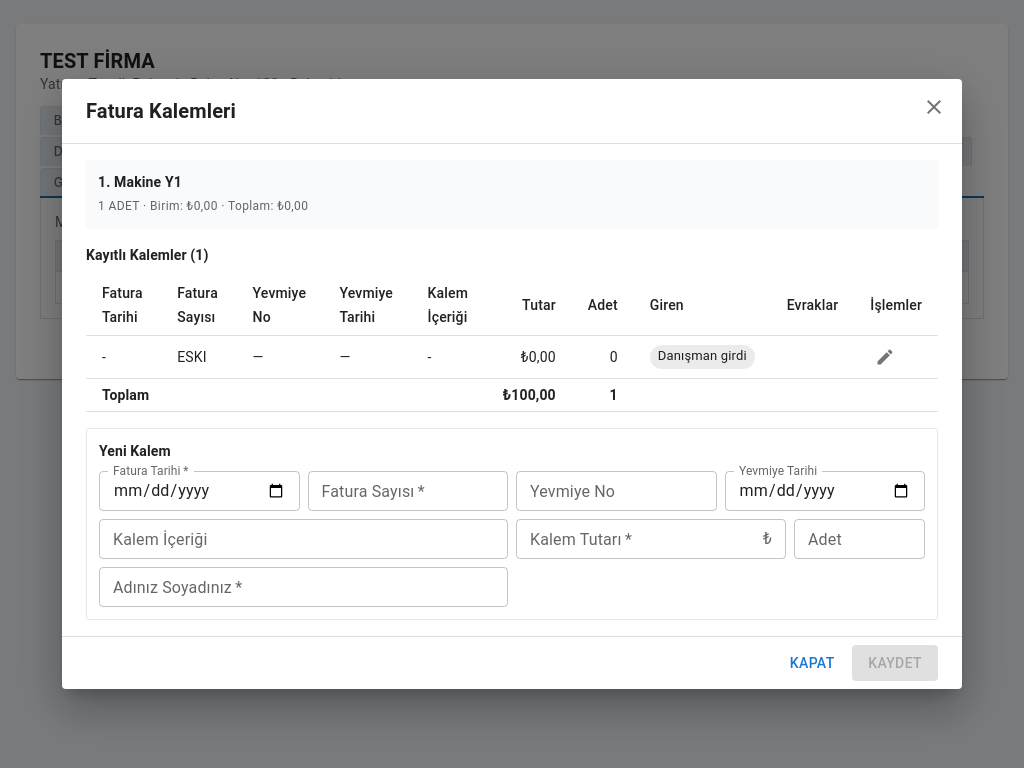
Scenario: eksik eski personel kaydının yalnız açıklaması düzeltilebilir ve vazgeçmek kayıt yapmaz
Earlier steps of the test are not shown.
Click the button named "ESKI düzenle". click: (885, 357)
box: left=870, top=342, right=900, bottom=372
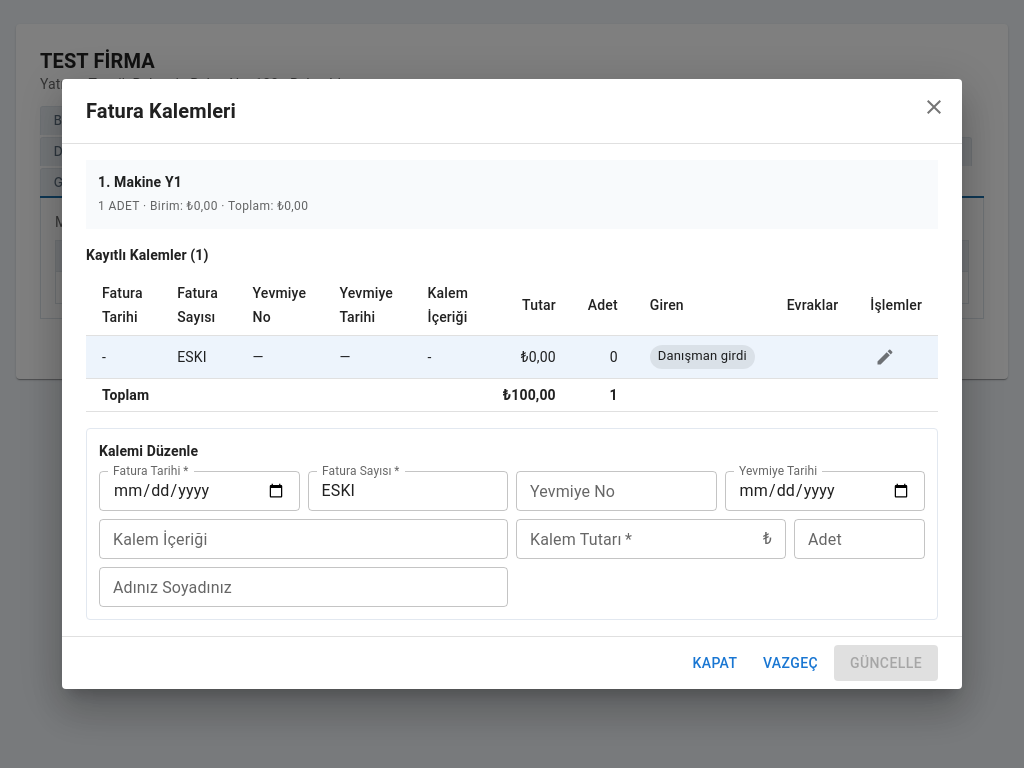
Type "Vazgeçilen içerik" into the field labelled "Kalem İçeriği". click: (304, 539)
box: left=99, top=519, right=508, bottom=559
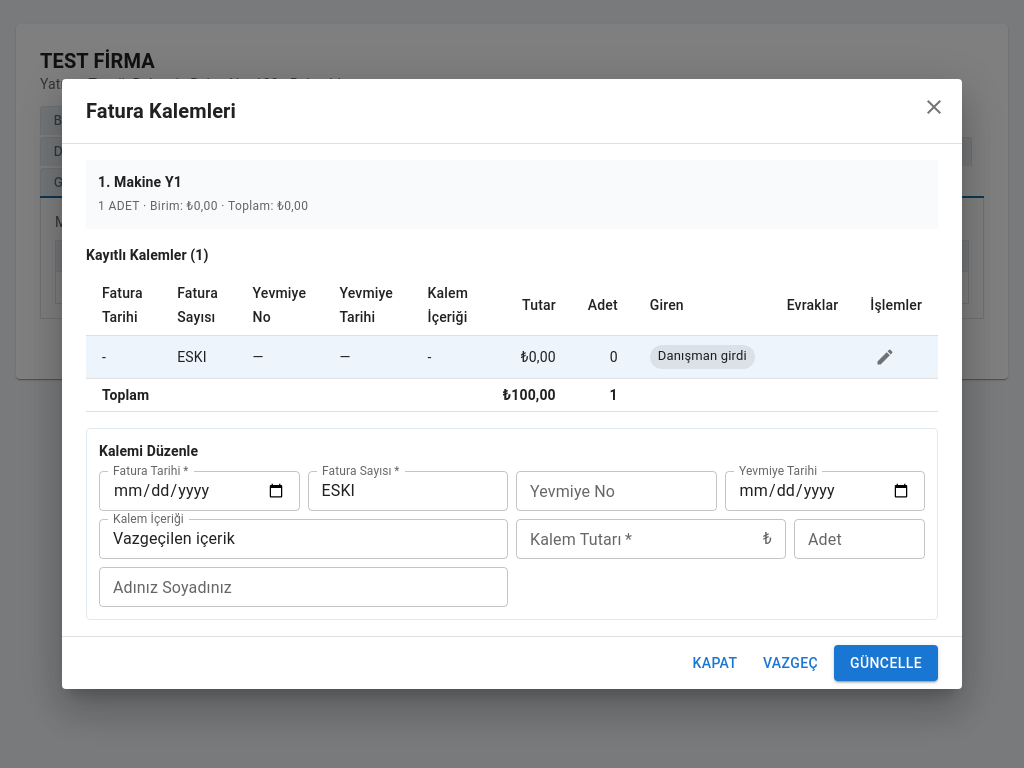
Click the button "Vazgeç". click: (790, 663)
box: left=755, top=645, right=826, bottom=681
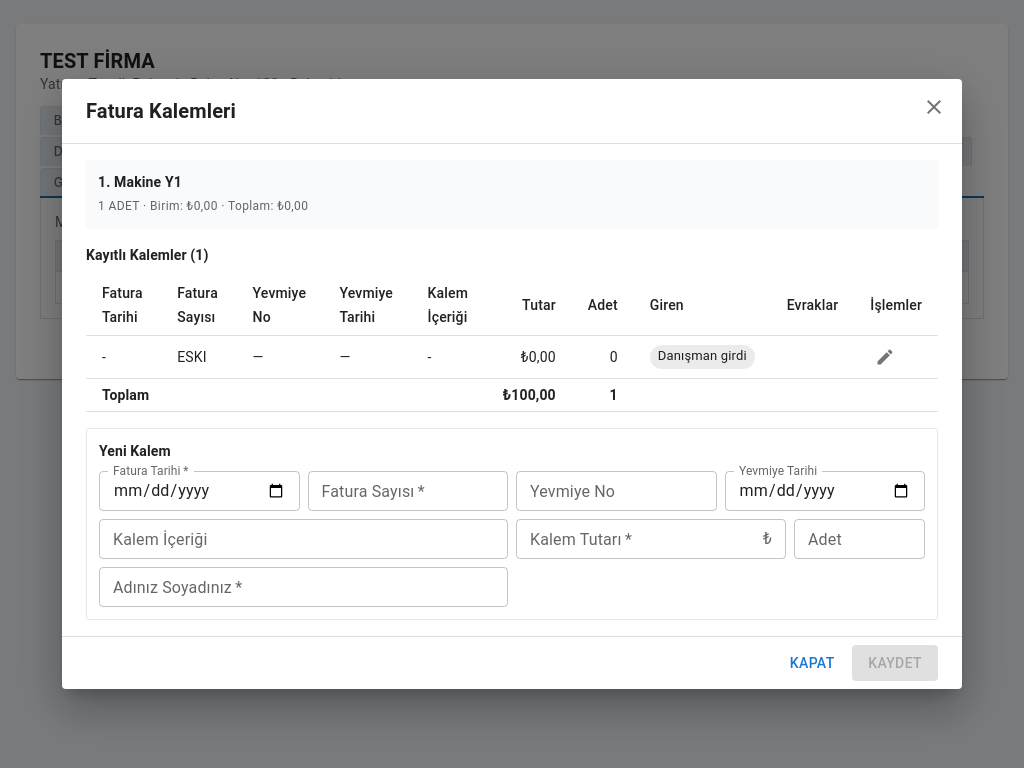
Click the button named "ESKI düzenle". click: (885, 357)
box: left=870, top=342, right=900, bottom=372
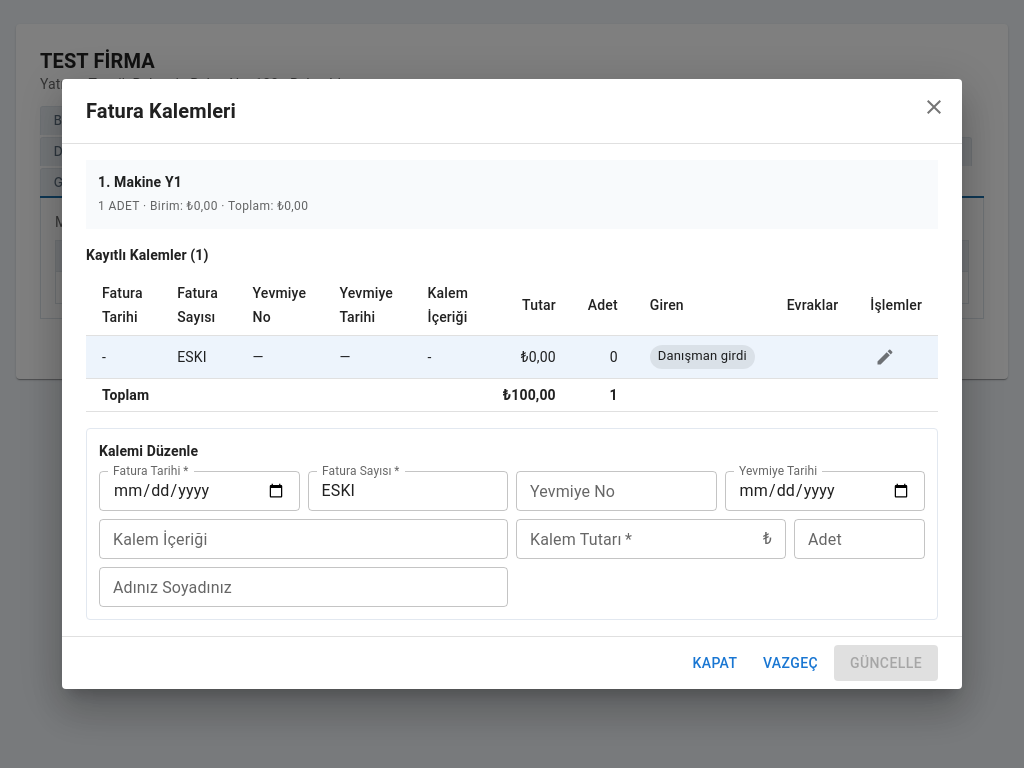
Expected: the field labelled "Kalem İçeriği" is empty
Type "Düzeltilen içerik" into the field labelled "Kalem İçeriği". click: (304, 539)
box: left=99, top=519, right=508, bottom=559
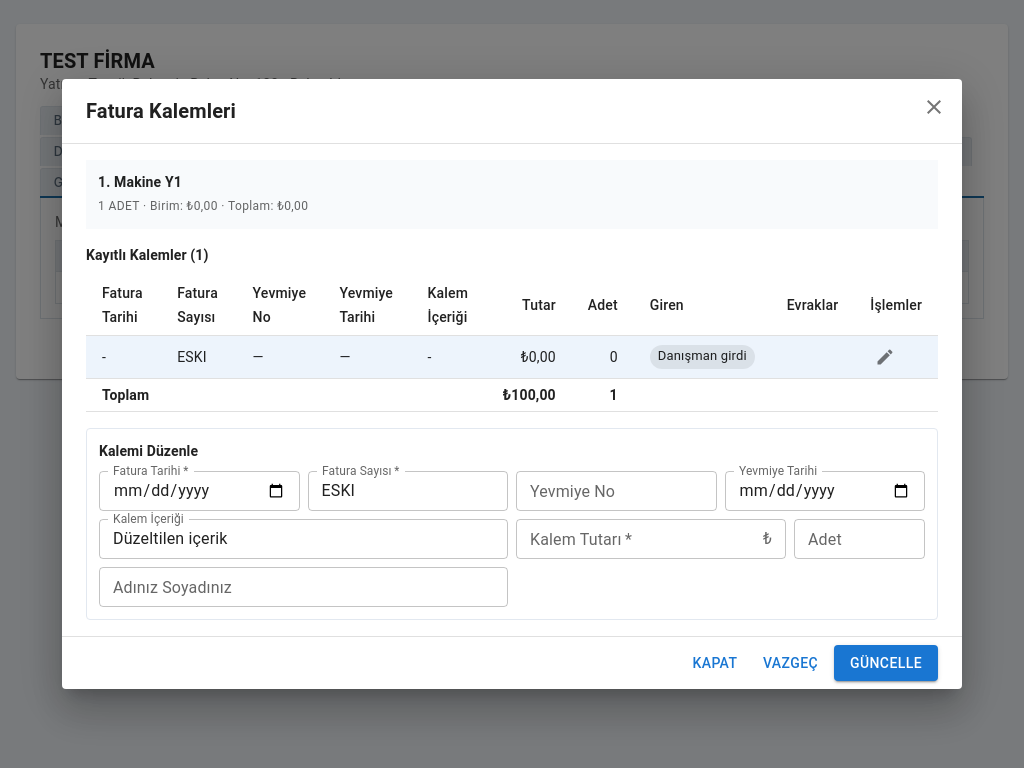
Click the button "Güncelle". click: (886, 663)
box: left=834, top=645, right=938, bottom=681
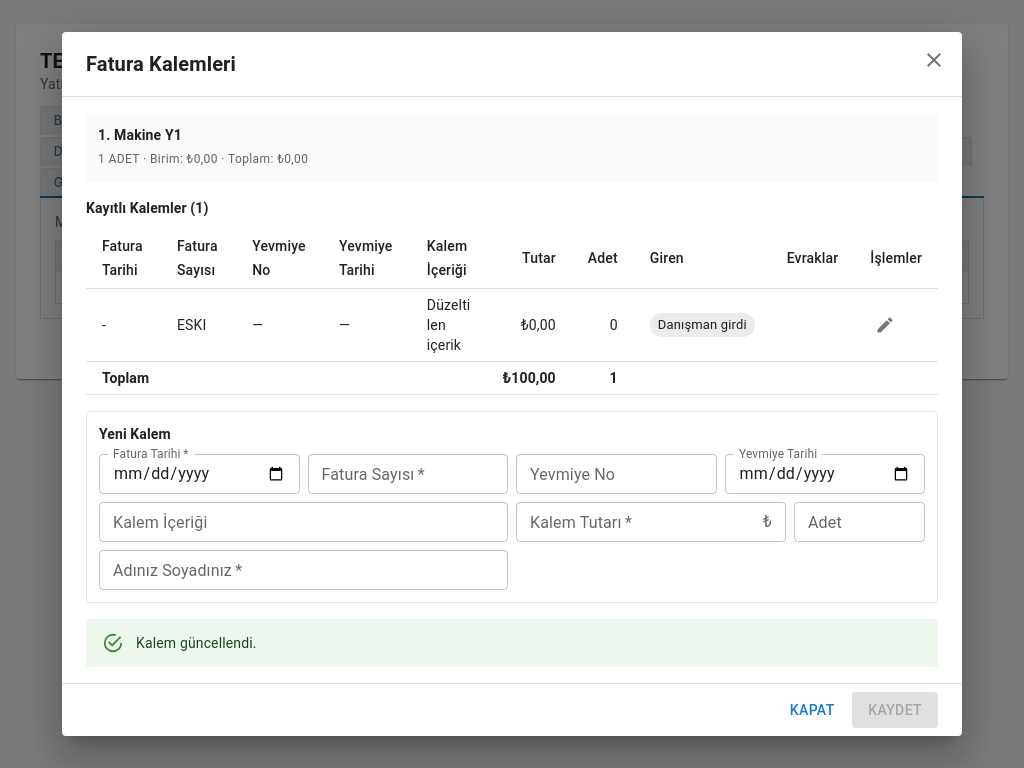
Expected: the text "Kalem güncellendi." is shown, left=136, top=635, right=257, bottom=651
